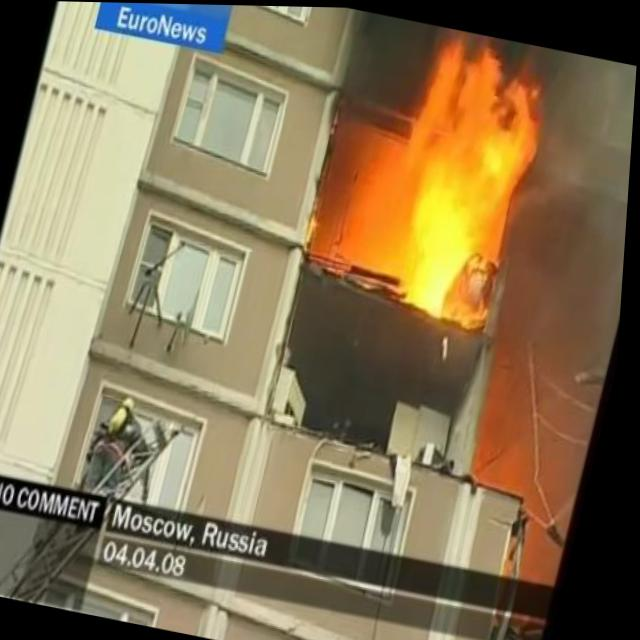fire: (363, 21, 573, 334)
